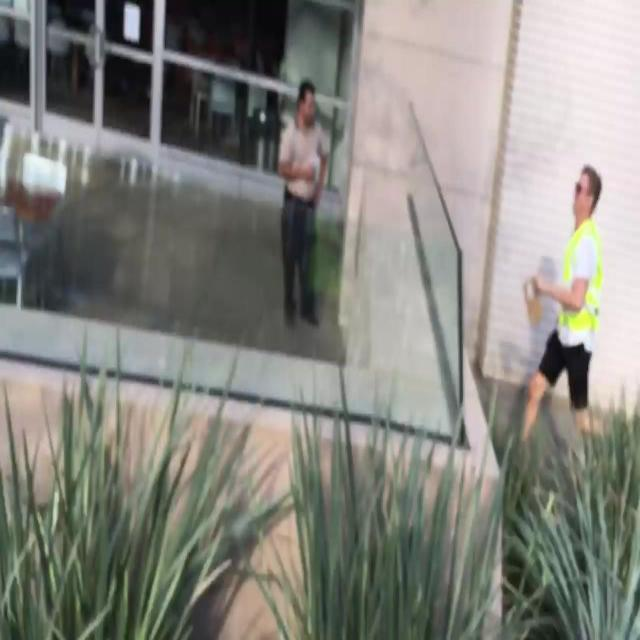vest: (555, 220, 601, 334)
